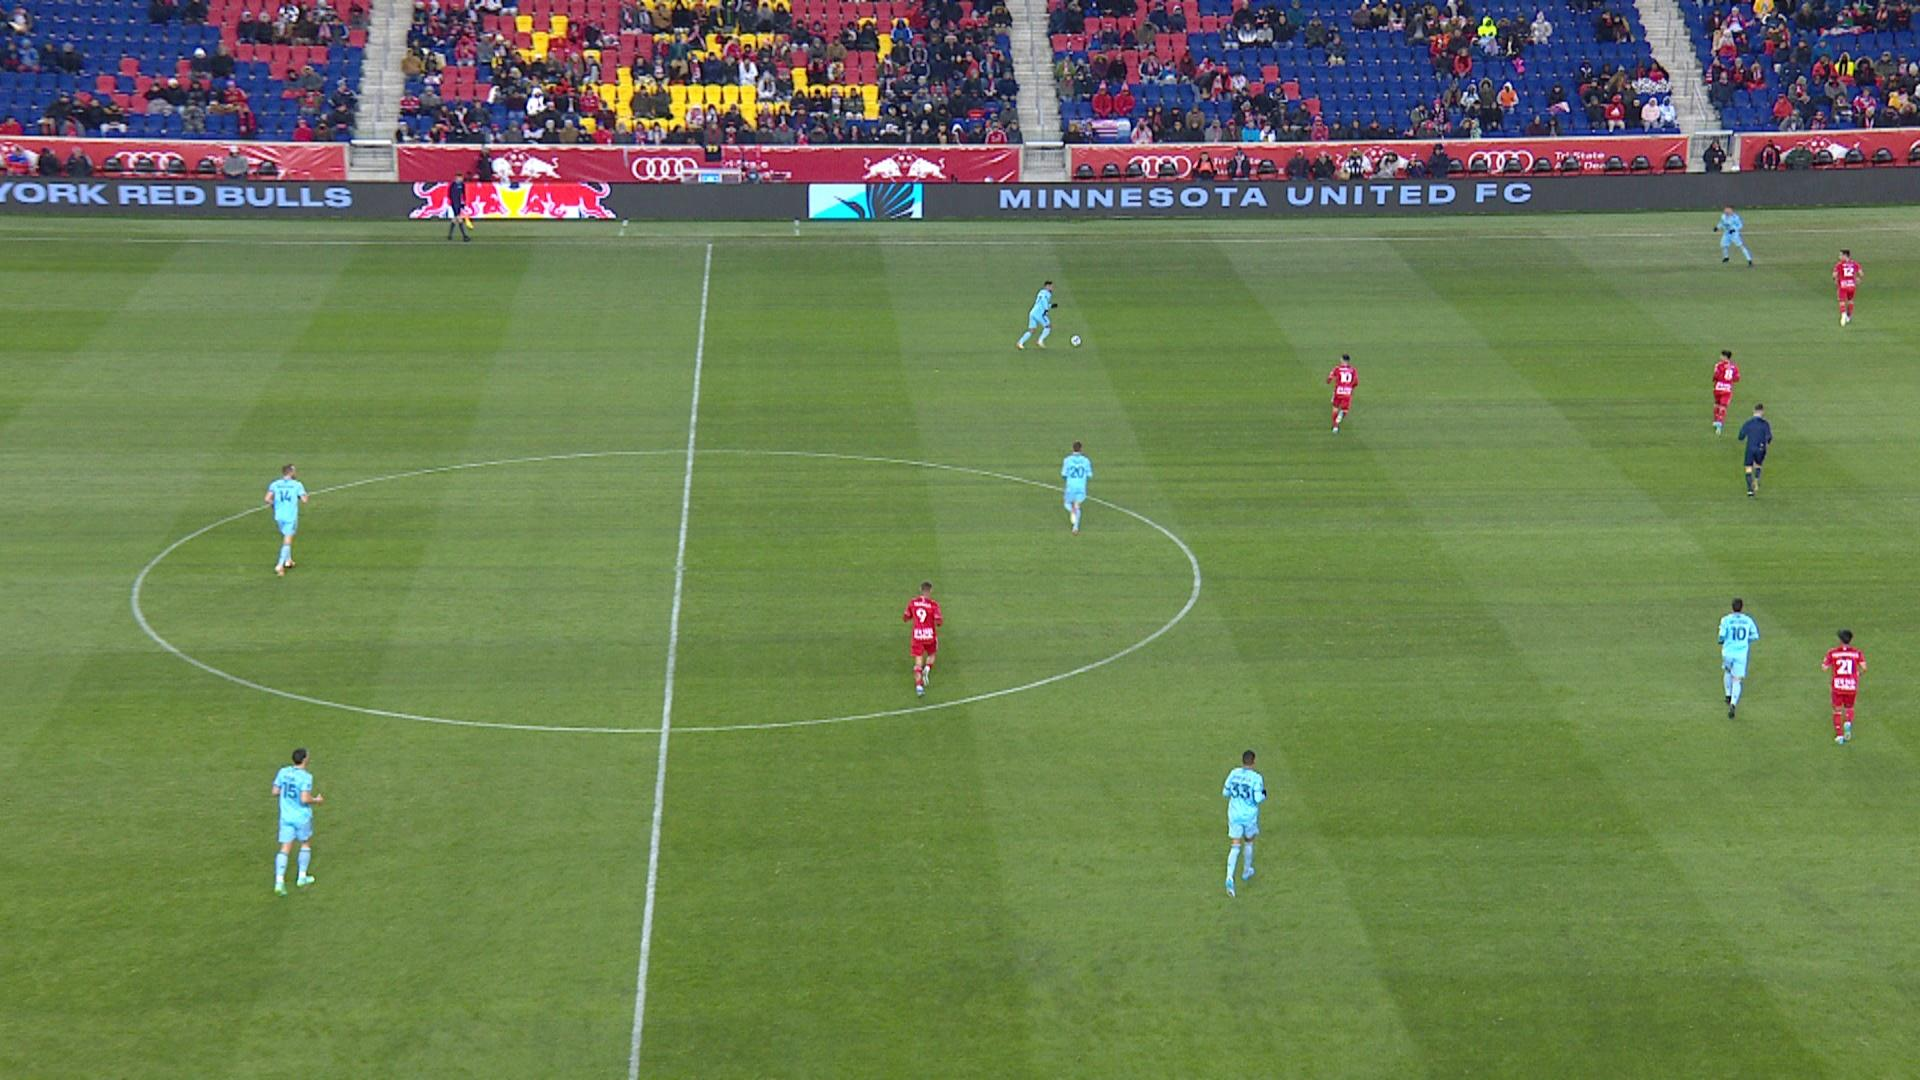football: (1071, 334, 1083, 347)
